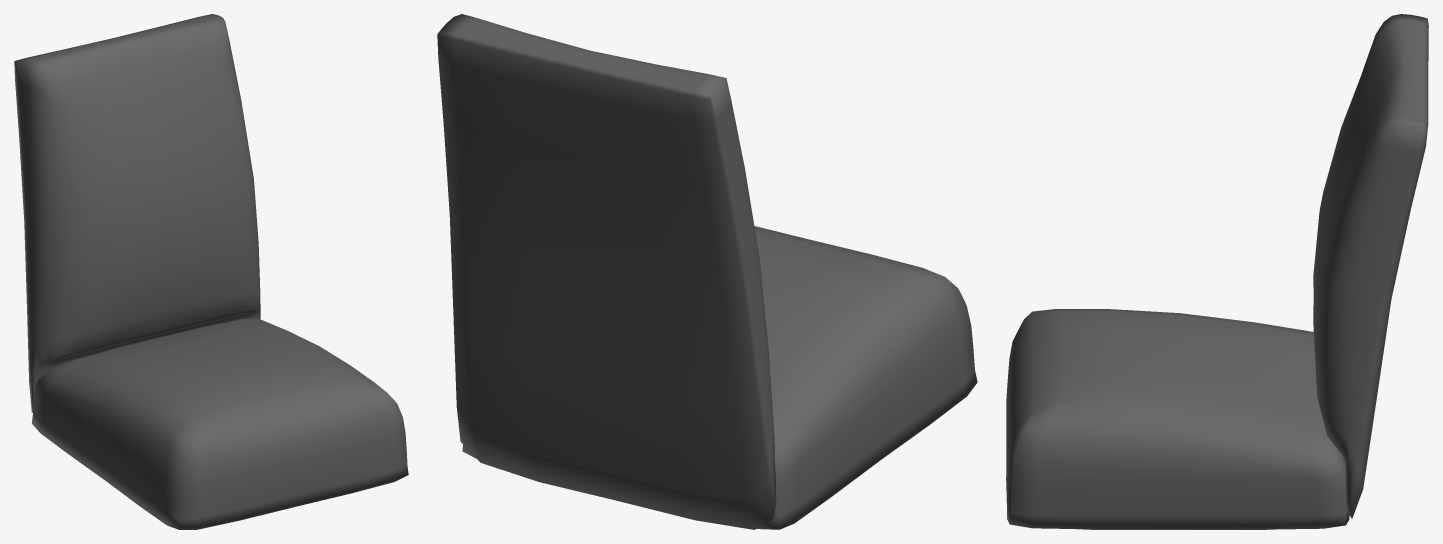
File: Chair_215_2_chair_215_1.obj
3 views of the same model, side by side, from view 1: azimuth 30°, elevation 25°; view 2: azimuth 150°, elevation 25°; view 3: azimuth 270°, elevation 25° (orthographic). The views are drawn at different scales.
Size of the model in its own units: 0.615 by 0.8856 by 0.8331.
